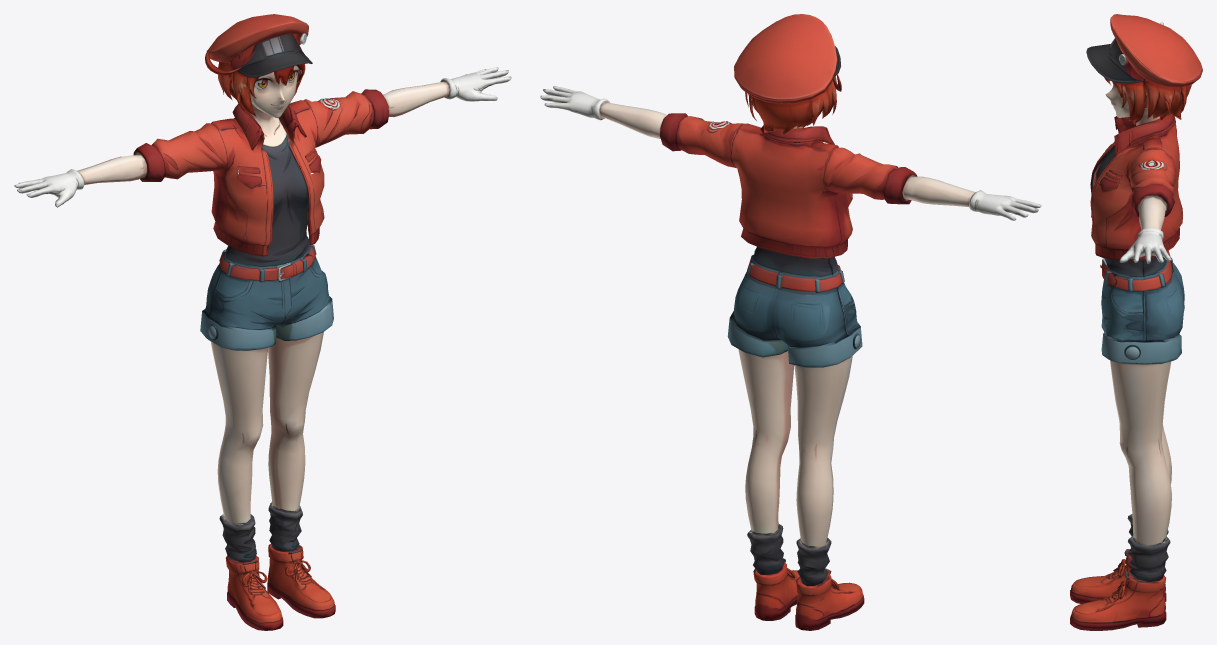
Rendered from Globulo vermelho 3d model.glb.
3 renders of one model, left to right at view 1: azimuth 30°, elevation 25°; view 2: azimuth 150°, elevation 25°; view 3: azimuth 270°, elevation 25°, orthographic.
Parts seen in each view (by area): view 1: tripo_459017d9_e2d4_465a_84a8_9c430723904e; view 2: tripo_459017d9_e2d4_465a_84a8_9c430723904e; view 3: tripo_459017d9_e2d4_465a_84a8_9c430723904e.
Part boxes in pixels (x1,y1,x2,y2): tripo_459017d9_e2d4_465a_84a8_9c430723904e: (14,14,511,630); tripo_459017d9_e2d4_465a_84a8_9c430723904e: (540,14,1041,630); tripo_459017d9_e2d4_465a_84a8_9c430723904e: (1070,14,1202,630).
Bounding box in the file's own units: 0.8774 × 0.9995 × 0.2036.
1 material, 1 textured.
